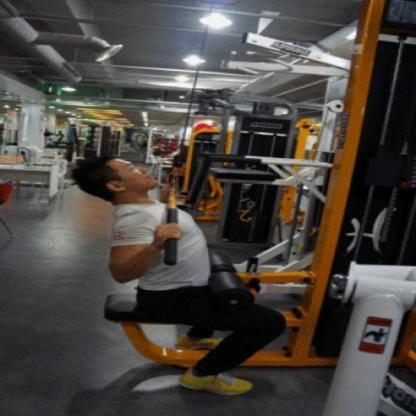Lat Pull Down: (68, 0, 412, 409)
